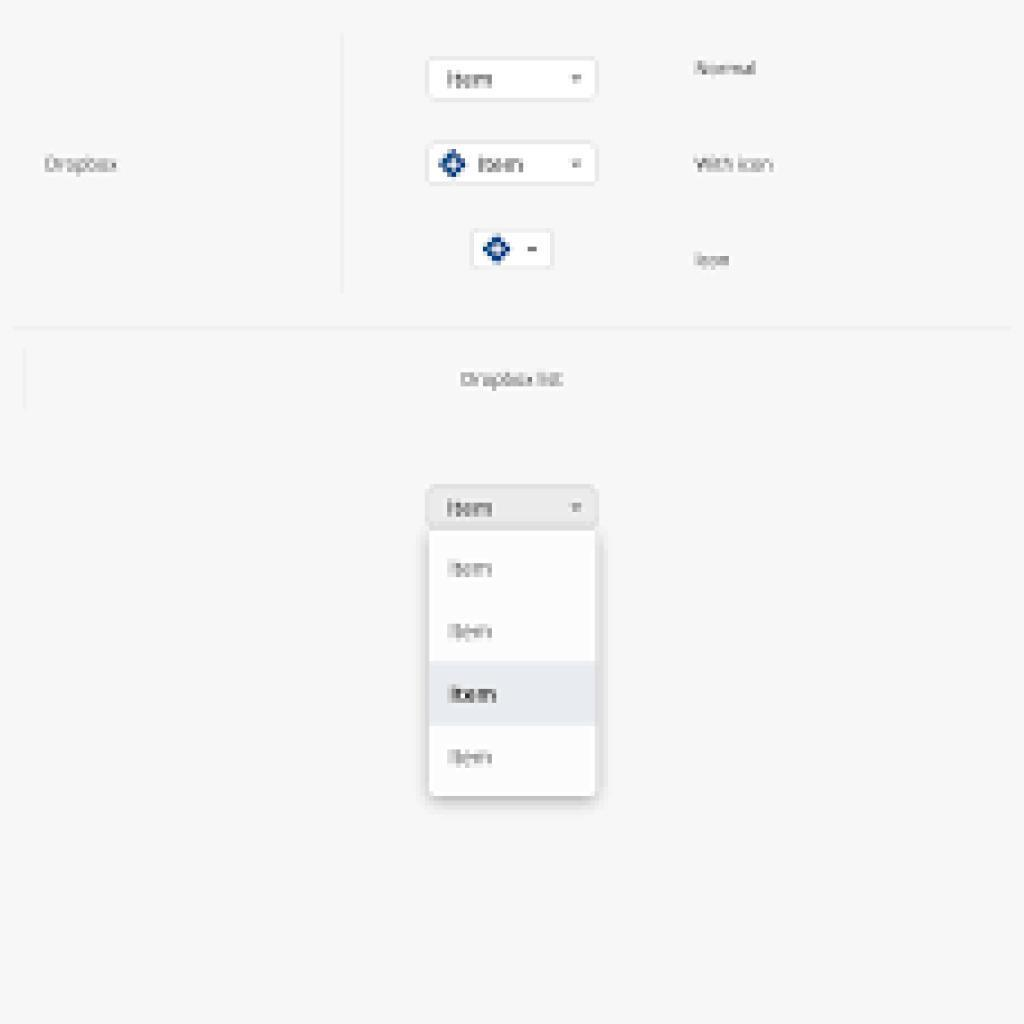button: (430, 664, 594, 728)
dropdown: (429, 488, 600, 532), (428, 60, 599, 101), (431, 144, 600, 183), (472, 231, 554, 269)
